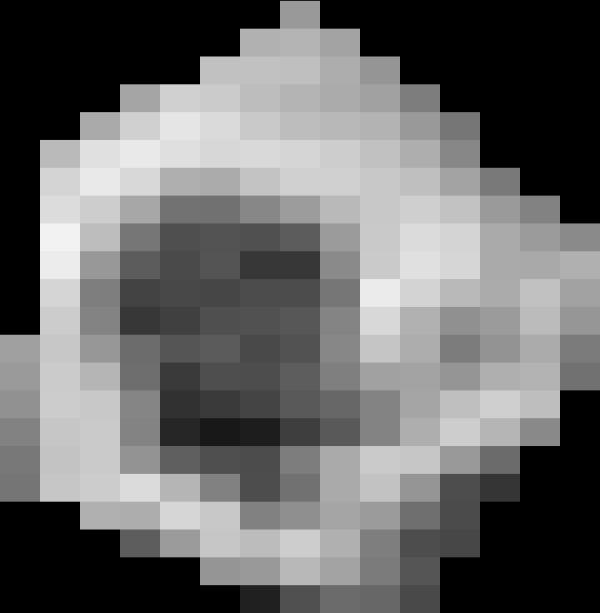tumor_good_chance: (0, 1, 600, 613)
